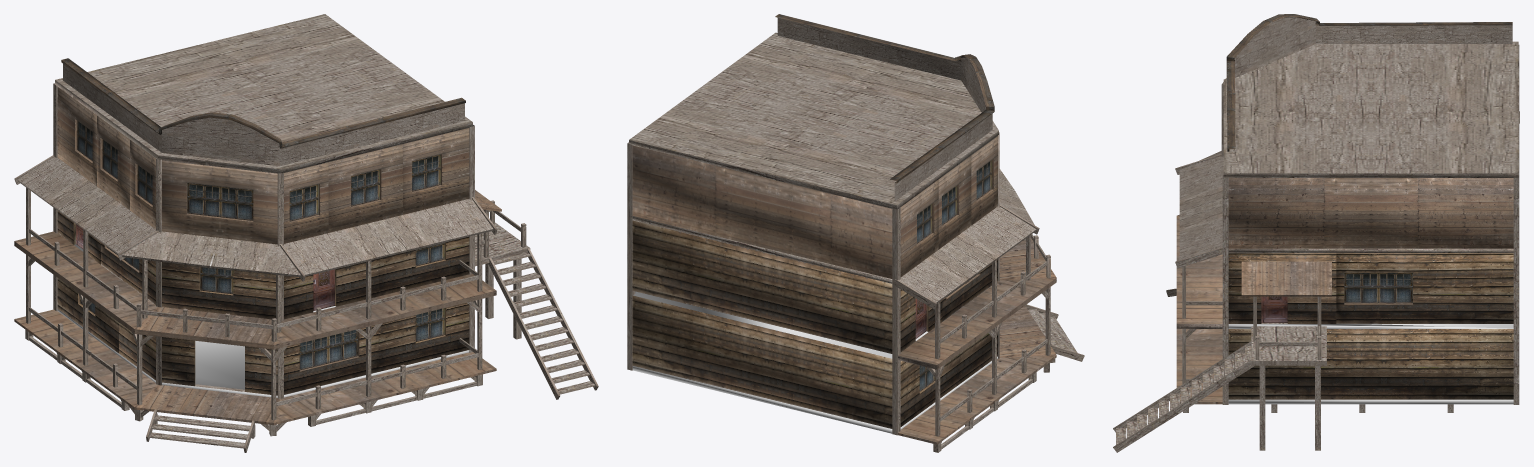
File: novoBar.fbx
The picture shows the model from 3 angles, left to right: view 1: azimuth 30°, elevation 25°; view 2: azimuth 150°, elevation 25°; view 3: azimuth 270°, elevation 25°; orthographic projection.
Visible parts, largest first — view 1: Box223, Box219, Object067, Box158, Object058, Box220, Box222, Object052, Object049, Object053, Box221, Object044 (+27 smaller); view 2: Box223, Object060, Object063, Object065, Object067, Box158, Box219, Box222, Object056, Object055, Object045, Box309 (+10 smaller); view 3: Box223, Object064, Object059, Object062, Object067, Object061, Box220, Box248, Box219, Box239, Box158, Box218 (+8 smaller).
Boxes of the visible parts, left/top/right/bottom form: Box223: left=55, top=14, right=472, bottom=173; Box219: left=14, top=231, right=496, bottom=349; Object067: left=61, top=58, right=465, bottom=166; Box158: left=14, top=309, right=496, bottom=425; Object058: left=162, top=160, right=277, bottom=244; Box220: left=283, top=199, right=493, bottom=276; Box222: left=17, top=156, right=155, bottom=254; Object052: left=328, top=144, right=402, bottom=232; Object049: left=162, top=262, right=275, bottom=319; Object053: left=403, top=128, right=469, bottom=214; Box221: left=121, top=231, right=300, bottom=277; Object044: left=378, top=302, right=469, bottom=371; Box223: left=629, top=32, right=998, bottom=209; Object060: left=632, top=295, right=892, bottom=428; Object063: left=632, top=220, right=892, bottom=353; Object065: left=632, top=145, right=892, bottom=278; Object067: left=775, top=14, right=994, bottom=201; Box158: left=898, top=306, right=1056, bottom=444; Box219: left=898, top=238, right=1056, bottom=369; Box222: left=899, top=206, right=1036, bottom=303; Object056: left=900, top=180, right=938, bottom=276; Object055: left=938, top=156, right=971, bottom=249; Object045: left=900, top=353, right=960, bottom=426; Box309: left=892, top=207, right=900, bottom=435; Box223: left=1223, top=41, right=1518, bottom=177; Object064: left=1228, top=178, right=1513, bottom=248; Object059: left=1228, top=329, right=1513, bottom=399; Object062: left=1336, top=253, right=1513, bottom=323; Object067: left=1226, top=14, right=1512, bottom=151; Object061: left=1228, top=253, right=1336, bottom=323; Box220: left=1179, top=156, right=1223, bottom=259; Box248: left=1241, top=261, right=1331, bottom=296; Box219: left=1176, top=214, right=1222, bottom=328; Box239: left=1251, top=326, right=1326, bottom=365; Box158: left=1176, top=329, right=1222, bottom=404; Box218: left=1228, top=248, right=1513, bottom=253.
Bounding box in the file's own units: 1730 × 1239 × 1564.
Materials: 2 (1 with a texture image).
